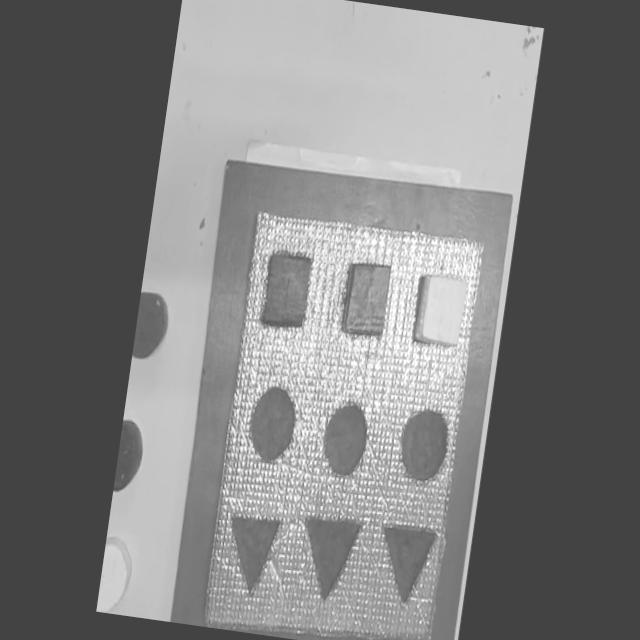bcircle: (112, 418, 147, 496)
bcube: (260, 252, 314, 332)
mtcircle: (245, 382, 302, 467), (395, 405, 453, 485), (320, 402, 372, 480)
mttriangle: (294, 512, 364, 607), (374, 520, 440, 610), (221, 512, 282, 600)
rcircle: (131, 290, 172, 364)
rcube: (340, 258, 396, 339)
wb: (198, 206, 486, 640)
ycircle: (97, 535, 135, 615)
ycube: (411, 270, 470, 350)
